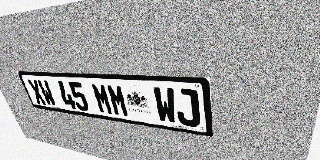4: (55, 81, 78, 110)
5: (68, 82, 90, 112)
J: (174, 88, 200, 128)
M: (106, 84, 130, 117), (91, 83, 114, 115)
W: (152, 87, 178, 125), (36, 80, 58, 107)
X: (26, 79, 47, 105)
